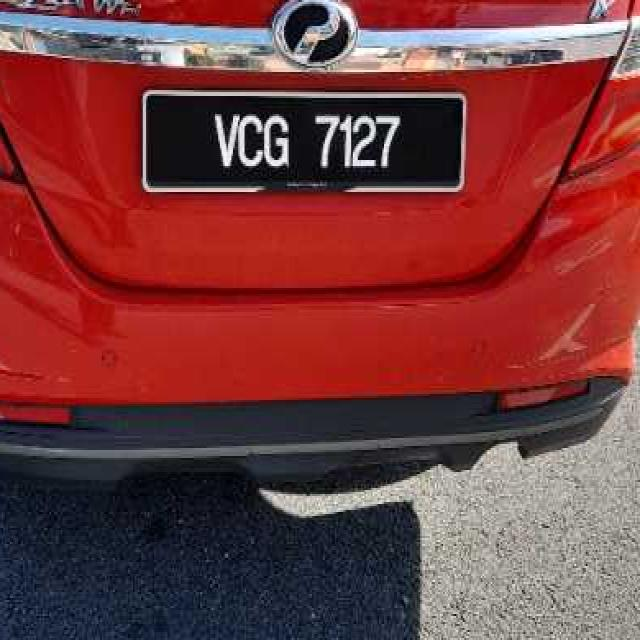car-plate: (130, 70, 488, 219)
